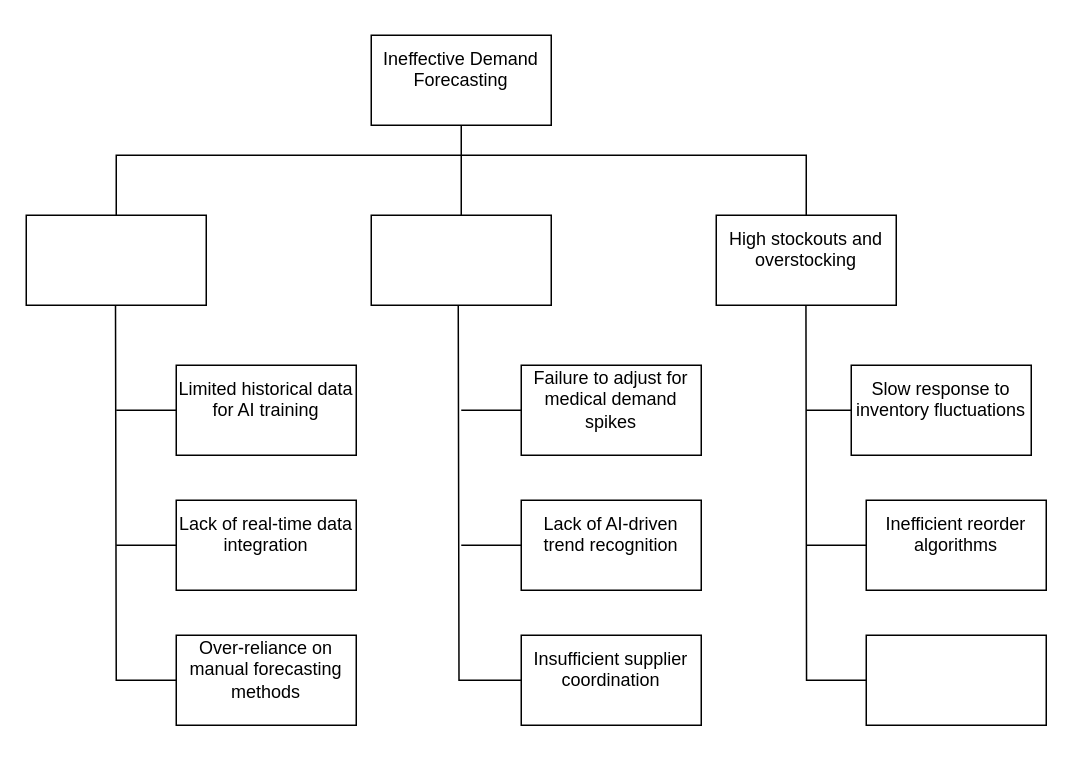
Some shapes in this 1073 by 770 pixel diagram are drawn without their labels. The shapes that lost their labels are listed below. From the top down, each one's centre as x and y in pixels, then its label:
At point 115,259: "Inaccurate predictive analytics".
At point 460,259: "Poor seasonal demand anticipation".
At point 955,679: "No real - time supply adjustments".
